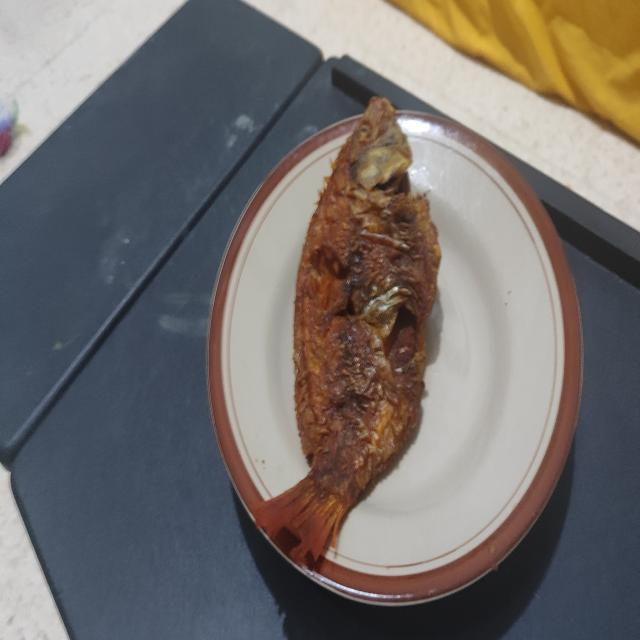ikan_mujair: (265, 97, 440, 565)
